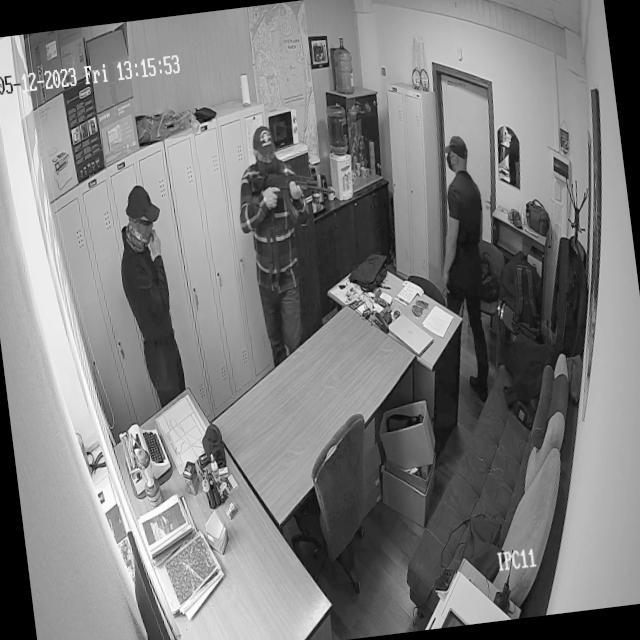gun: (256, 170, 342, 232)
person: (422, 128, 503, 386), (110, 186, 184, 408)
person with a gun: (229, 121, 355, 365)
